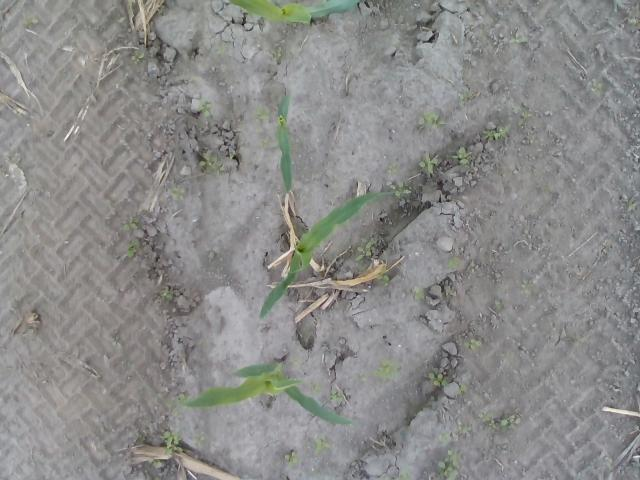Maize: (261, 189, 399, 321), (174, 357, 353, 428), (224, 0, 362, 28), (276, 94, 294, 192)
Weeds: (480, 410, 520, 433), (437, 448, 460, 480), (200, 150, 225, 176), (374, 358, 401, 379), (419, 112, 449, 130), (118, 214, 144, 234), (481, 126, 511, 142), (452, 144, 472, 167), (161, 430, 181, 453), (127, 237, 144, 262), (355, 239, 374, 261), (427, 368, 450, 386), (311, 436, 337, 451), (198, 96, 215, 118), (418, 154, 436, 173), (394, 180, 412, 198), (16, 14, 38, 28), (170, 184, 187, 200), (516, 109, 528, 130), (446, 254, 461, 270), (255, 105, 270, 121), (270, 46, 283, 64), (158, 290, 176, 303), (328, 387, 344, 401), (464, 338, 481, 351), (285, 451, 299, 465), (456, 382, 470, 396), (194, 434, 206, 450), (590, 80, 602, 96), (210, 45, 226, 57), (130, 52, 146, 64), (457, 92, 473, 104), (509, 35, 529, 44), (522, 280, 538, 290), (414, 288, 426, 301), (438, 430, 449, 444), (386, 165, 399, 176), (400, 466, 410, 480), (626, 15, 638, 26), (173, 392, 186, 402), (379, 276, 391, 286), (110, 334, 120, 346), (460, 424, 473, 433), (311, 386, 322, 396), (626, 198, 636, 209), (154, 460, 162, 468)
